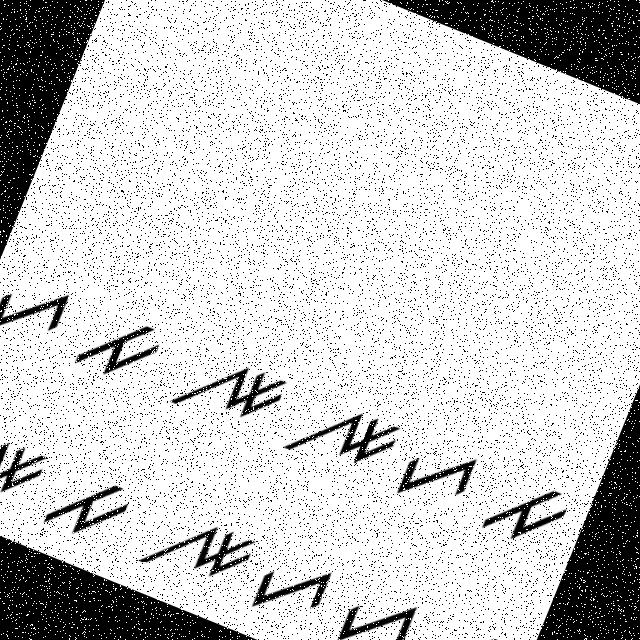ha: (392, 421, 492, 528), (242, 540, 340, 638), (0, 256, 83, 360), (322, 565, 431, 639)
mba: (472, 454, 581, 564), (36, 453, 142, 552), (67, 294, 175, 391), (406, 603, 522, 639)
nda: (275, 373, 410, 499), (124, 486, 264, 606), (164, 333, 298, 457), (0, 399, 60, 527)
